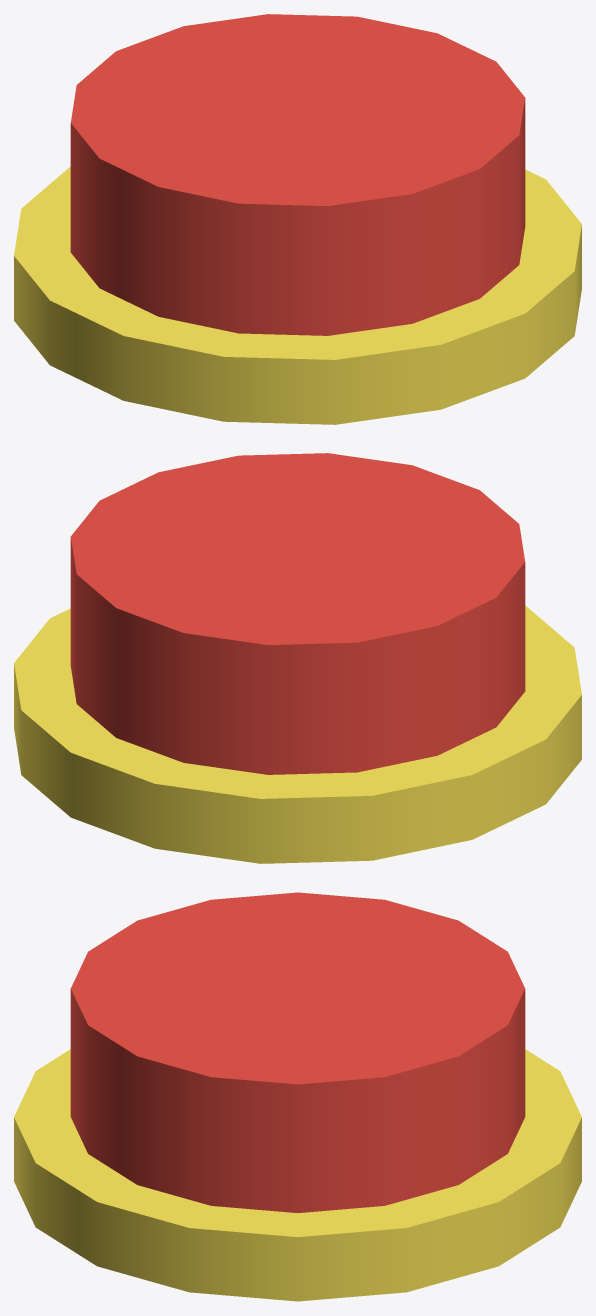
Rendered from BigButton.fbx.
The picture shows the model from 3 angles, top to bottom: view 1: azimuth 30°, elevation 25°; view 2: azimuth 150°, elevation 25°; view 3: azimuth 270°, elevation 25°; orthographic projection.
Visible parts, largest first — view 1: BigButton; view 2: BigButton; view 3: BigButton.
Boxes of the visible parts, x1=… form: BigButton: x1=14, y1=14, x2=581, y2=424; BigButton: x1=14, y1=453, x2=581, y2=863; BigButton: x1=14, y1=892, x2=581, y2=1301.
Bounding box in the file's own units: 0.4 × 0.15 × 0.4.
